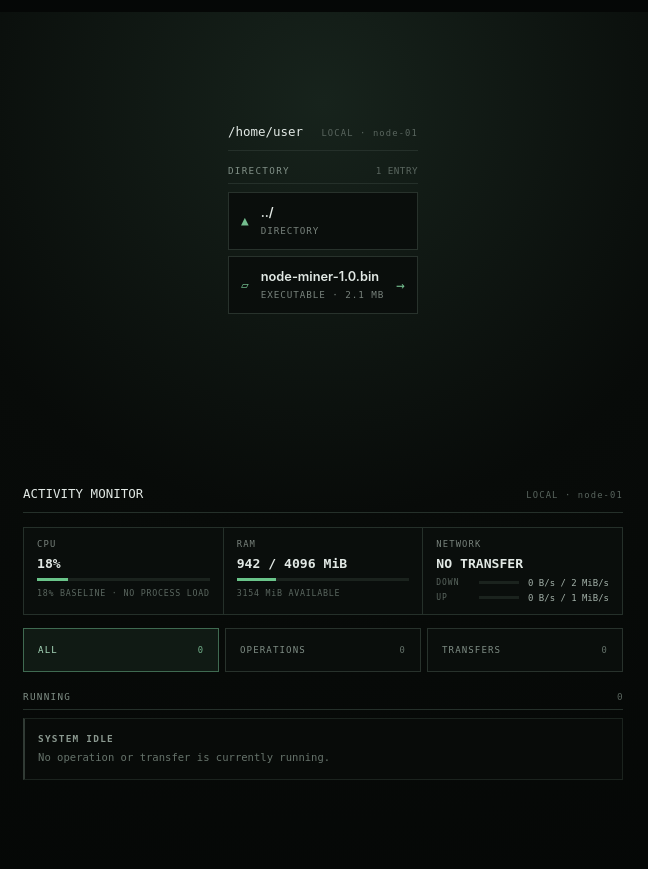
Test: Files NODE Miner RUN › returns to a runnable state once STOP elsewhere removes the canonical Process
This screenshot has width=648, height=869.
Click the button "▱ node-miner-1.0.bin EXECUTABLE · 2.1 MB →" at (323, 285), box [228,256,418,314]
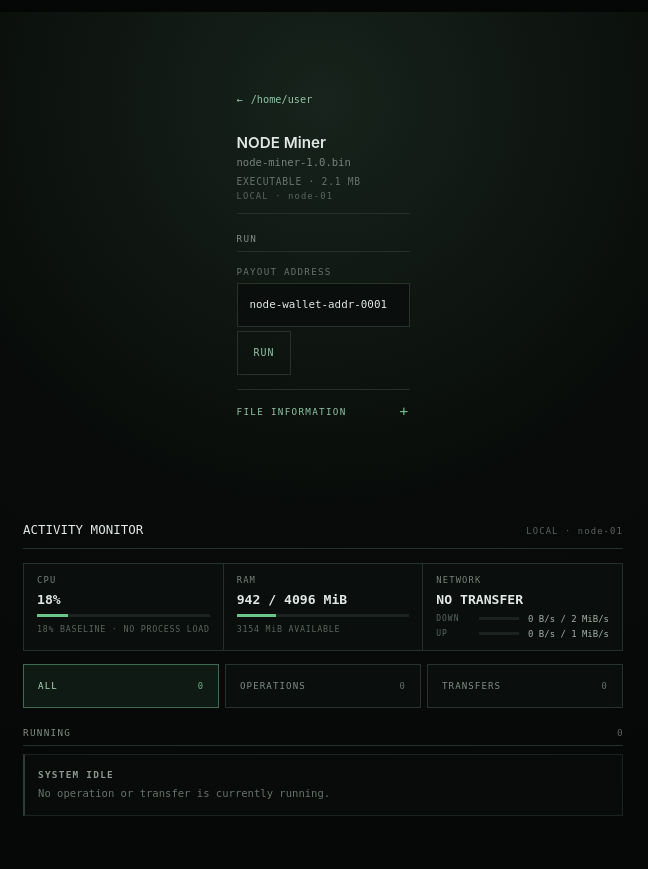
Click the button "RUN" at (264, 353), box [236,331,291,375]
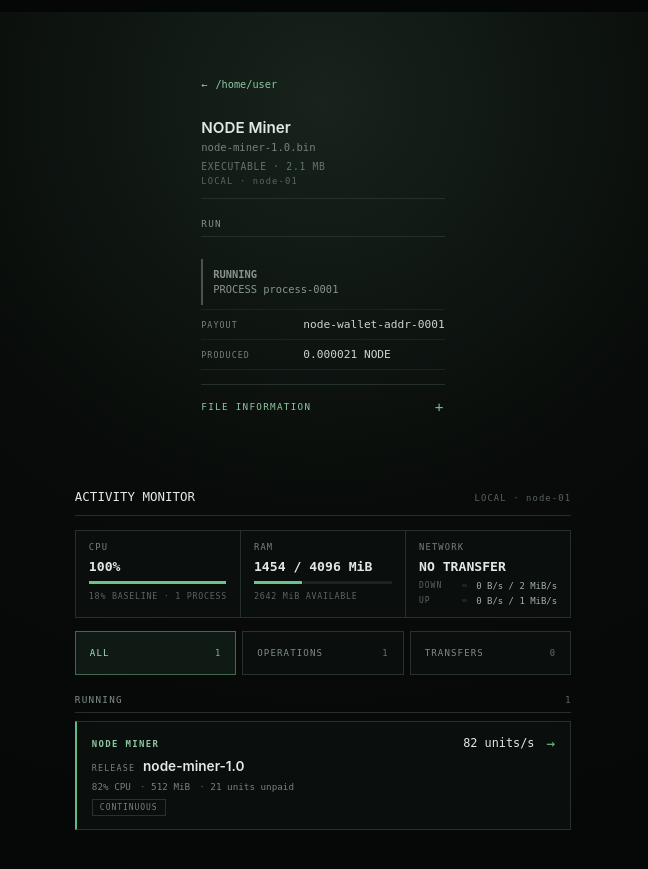
Expected: the text "RUNNING" below "EXECUTABLE" is shown, [213,268,257,280]
# STOP lives on the Miner's own surface in the Activity Monitor.
Click the button "NODE MINER" at (126, 744), box [75,720,571,830]
(page scrolled)
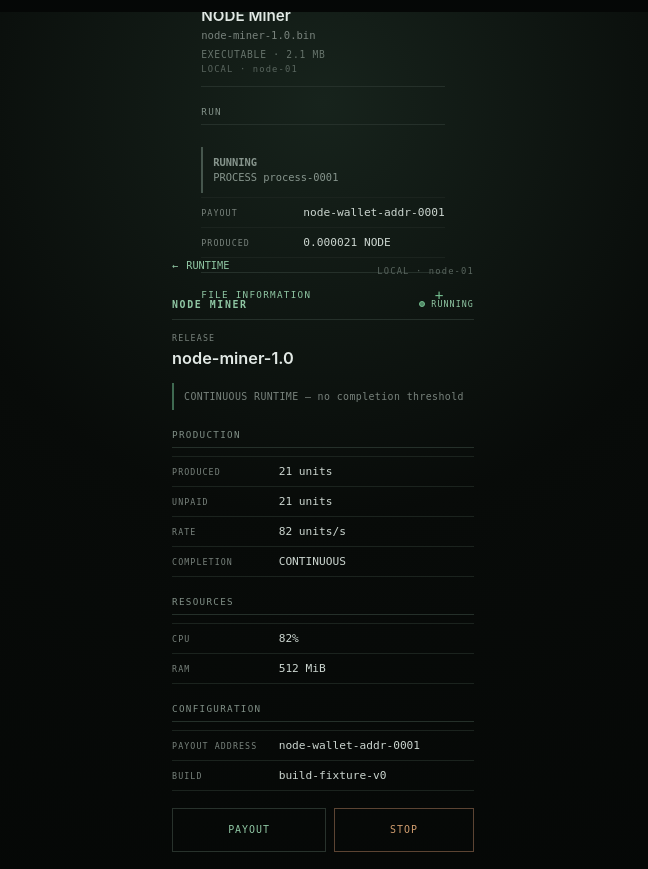
Click the button with aria-label "Stop NODE MINER" at (404, 830), box [334,808,474,852]
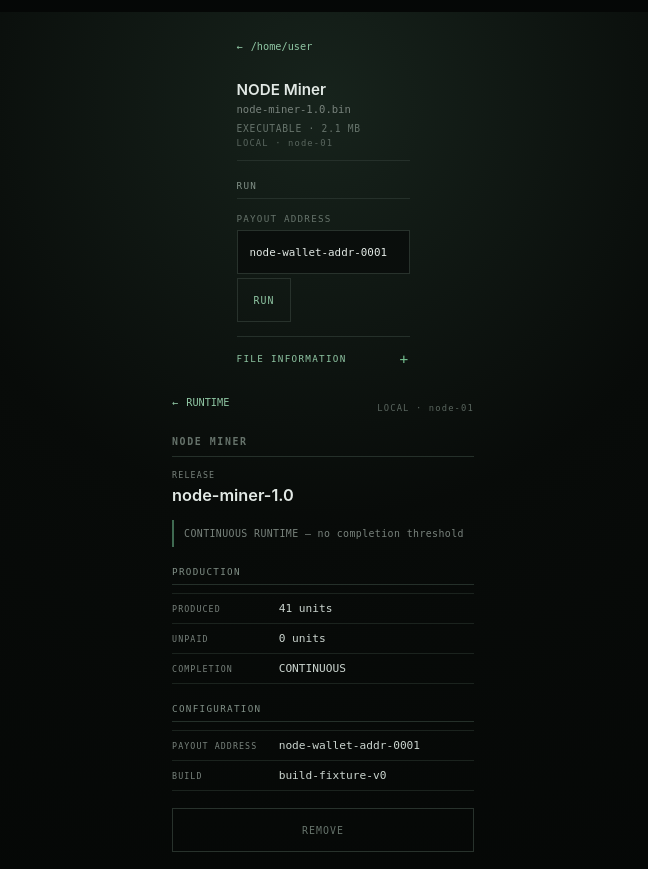
Expected: the text "RUNNING" is gone
Expected: the button "RUN" is shown, [236,278,291,322]
Expected: the field named "NODE payout address" is shown, [236,230,410,274]
